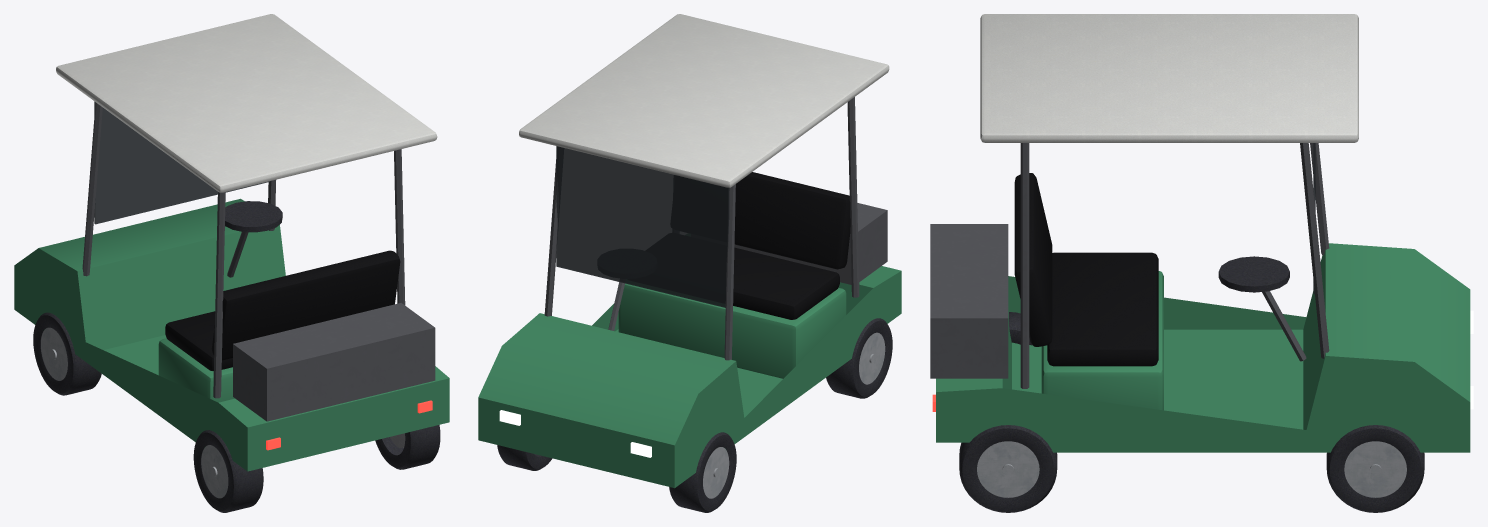
File: golf_buggy_green.gltf
The picture shows the model from 3 angles, left to right: view 1: azimuth 30°, elevation 25°; view 2: azimuth 150°, elevation 25°; view 3: azimuth 270°, elevation 25°; orthographic projection. The views are drawn at different scales.
Visible parts, largest first — view 1: golf_buggy_green; view 2: golf_buggy_green; view 3: golf_buggy_green.
Part boxes in pixels (box(x1,y1,x2,y2)): golf_buggy_green: box(14, 14, 449, 512); golf_buggy_green: box(478, 14, 901, 512); golf_buggy_green: box(930, 14, 1473, 512).
Bounding box in the file's own units: 1.3 × 1.9 × 2.44.
Materials: 12 (7 with a texture image).
